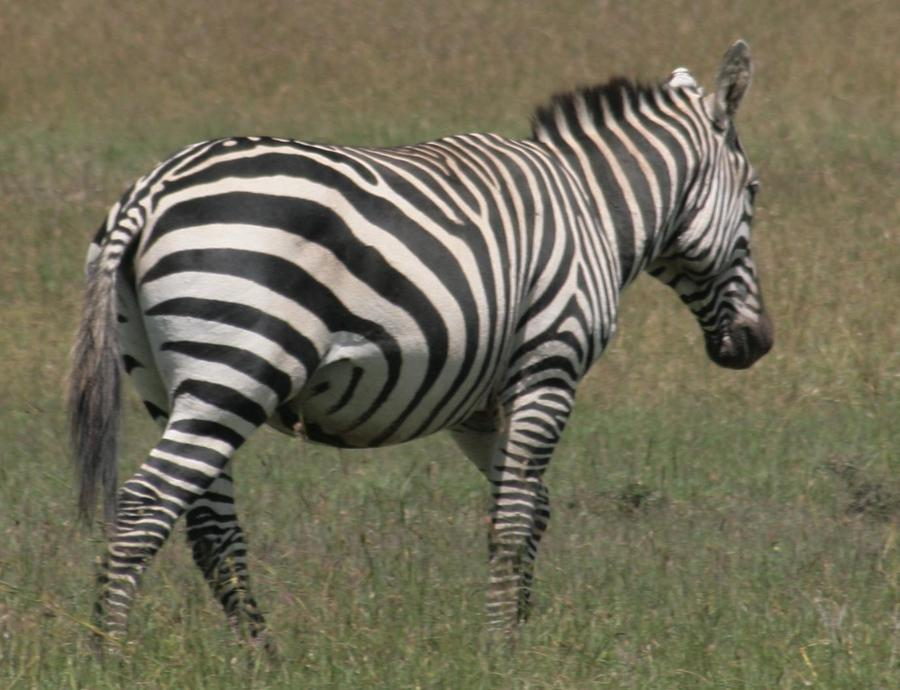zebra_plains: (135, 79, 641, 482)
